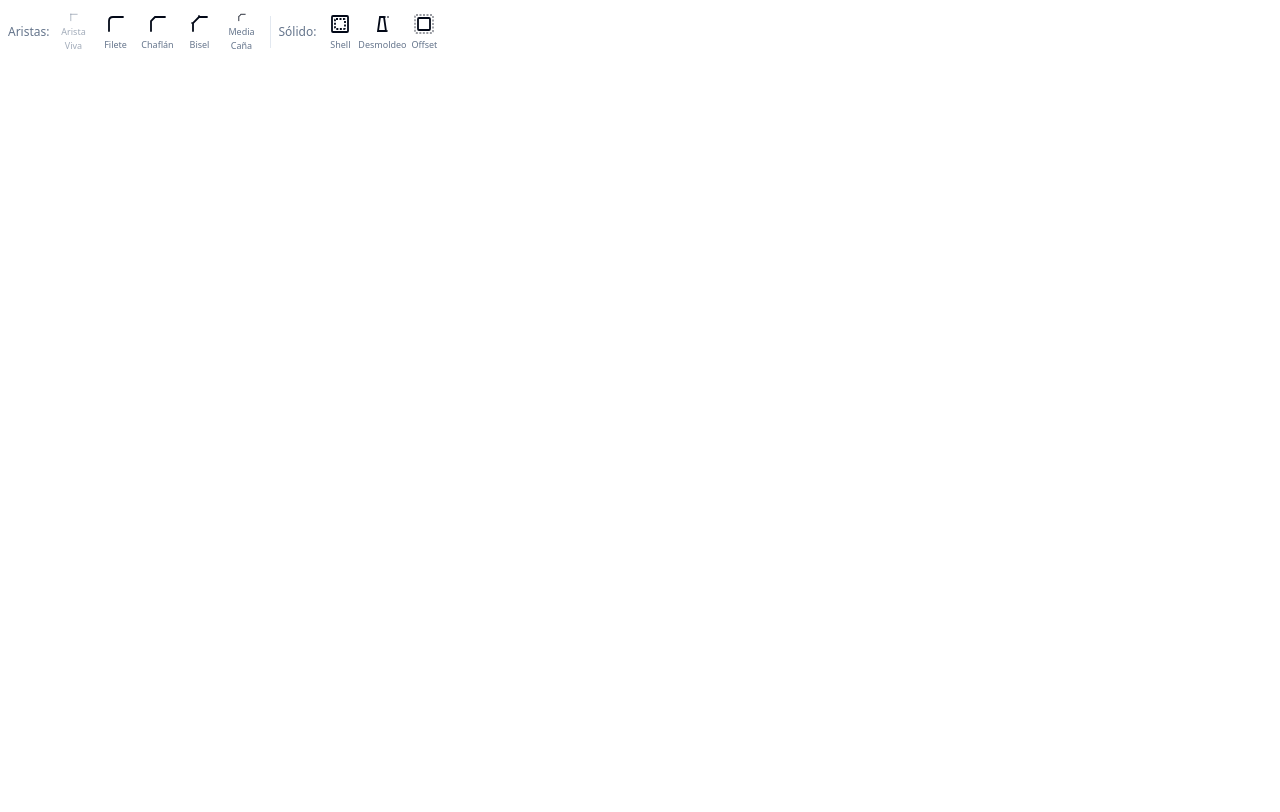
Test: ToolbarModifiers — integración › Picker de aristas y errores accionables › toolbarModifiers_whenEdgeModifierStarts_thenShowsViewportInstructions
The image size is (1280, 812).
Click the button with test id "modifier-fillet-btn" at (116, 32), box [96,12,136,52]
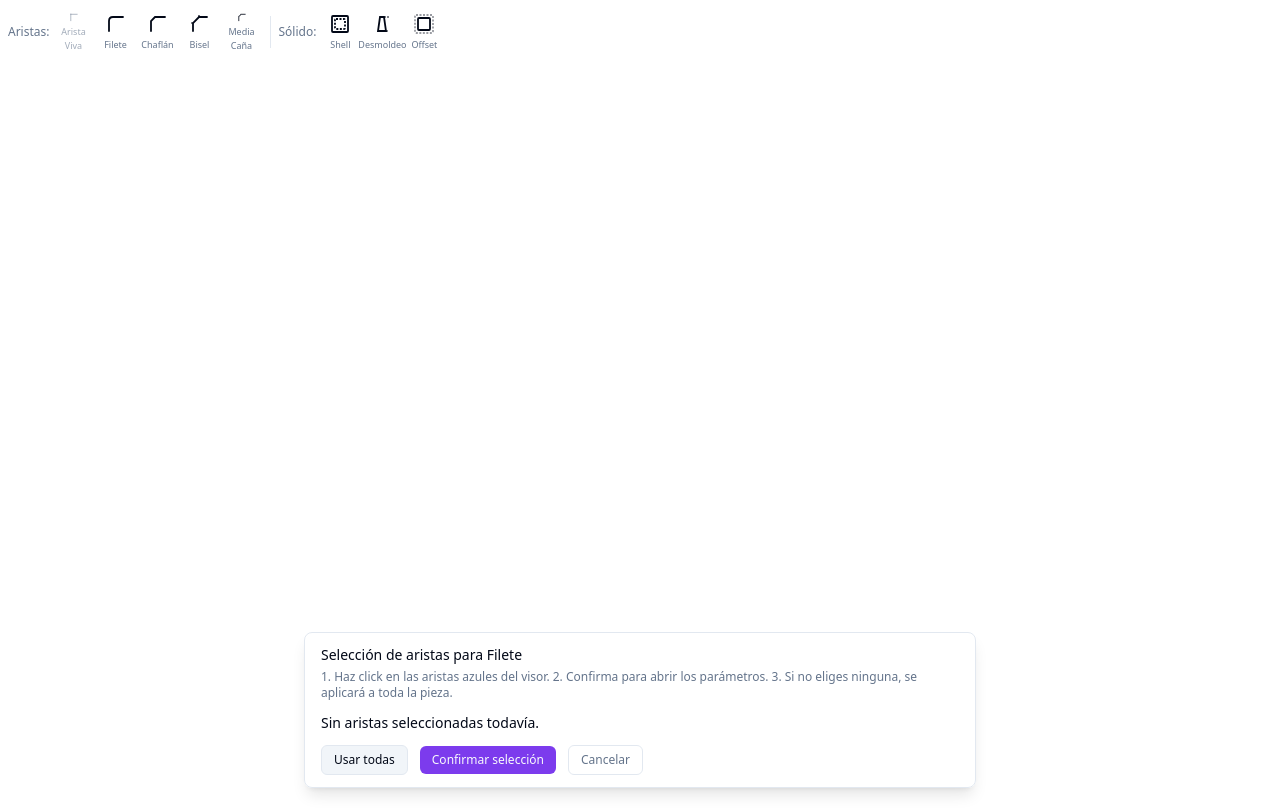
Expected: the text "Selección de aristas para Filete" is shown, [321,645,522,664]
Expected: the text "Haz click en las aristas azules del visor" is shown, [321,668,917,701]
Expected: the button "Confirmar selección" is shown, [420,746,556,774]
